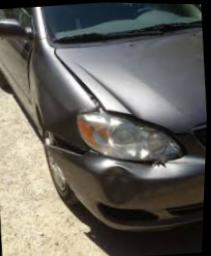Bumper: (44, 136, 195, 228)
